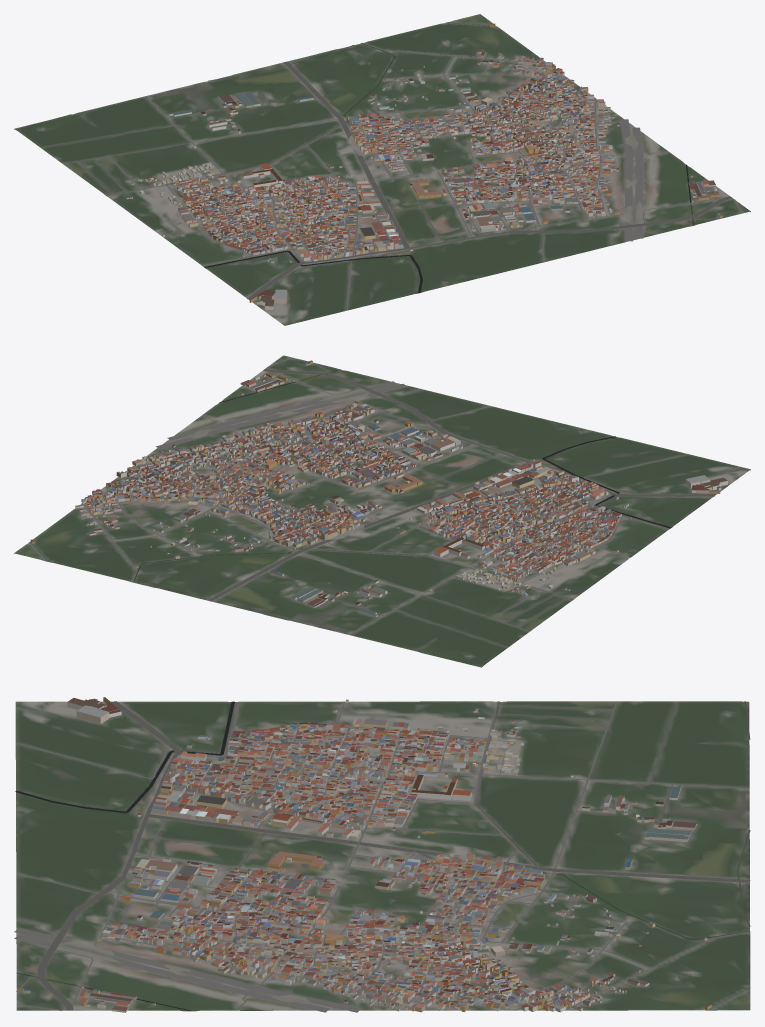
3 renders of one model, top to bottom at view 1: azimuth 30°, elevation 25°; view 2: azimuth 150°, elevation 25°; view 3: azimuth 270°, elevation 25°, orthographic. The views are drawn at different scales.
Visible parts, largest first — view 1: ground, buildings, roads, water; view 2: ground, buildings, roads, water; view 3: ground, buildings, roads, water.
Boxes of the visible parts, <box> form: ground: <box>14,14,750,325</box>; buildings: <box>126,23,722,309</box>; roads: <box>40,22,742,310</box>; water: <box>15,22,693,292</box>; ground: <box>14,355,750,667</box>; buildings: <box>30,360,727,616</box>; roads: <box>29,357,715,647</box>; water: <box>31,369,671,666</box>; ground: <box>15,701,750,1011</box>; buildings: <box>17,697,711,1012</box>; roads: <box>14,701,750,1012</box>; water: <box>15,701,750,1011</box>.
Bounding box in the file's own units: 1413 × 23.38 × 1408.
